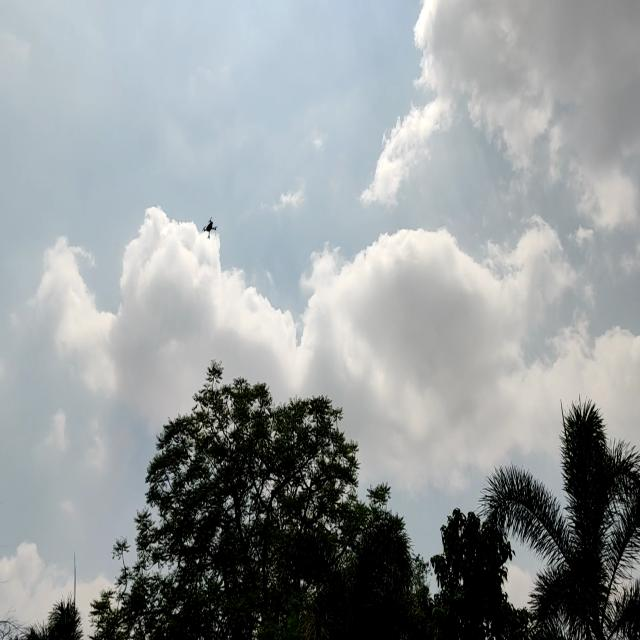drone: (198, 211, 222, 237)
